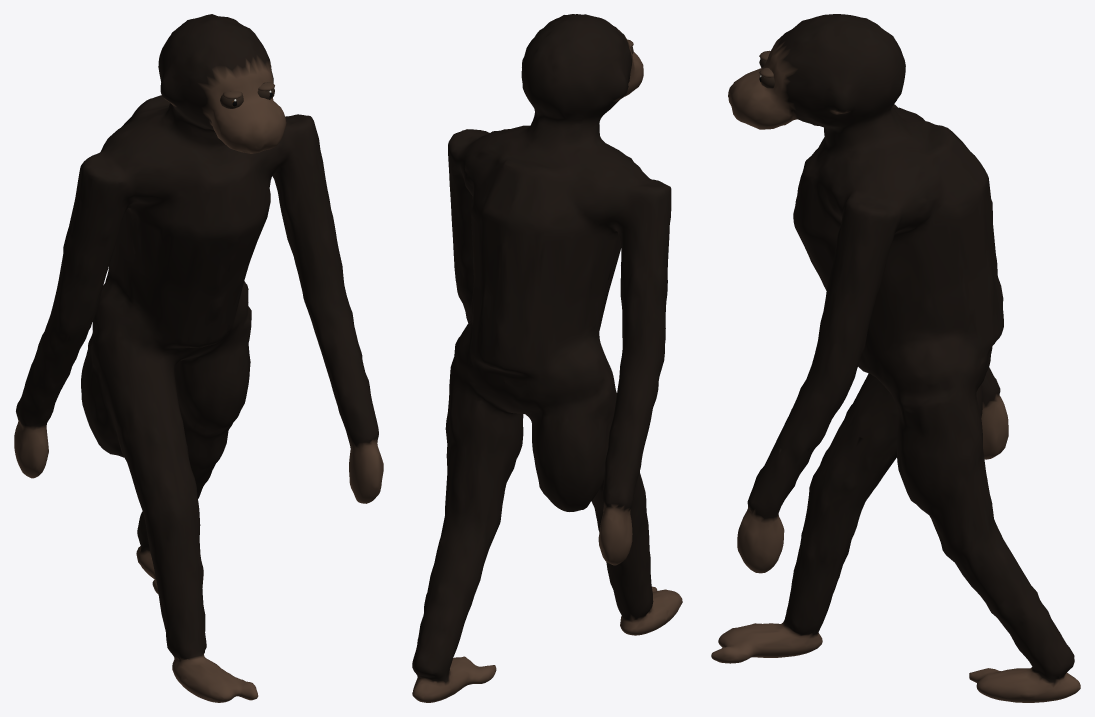
The model's file is ArdipithecusRamidus.fbx.
3 views of the same model, side by side, from view 1: azimuth 30°, elevation 25°; view 2: azimuth 150°, elevation 25°; view 3: azimuth 270°, elevation 25° (orthographic). The views are drawn at different scales.
Visible parts, largest first — view 1: ArdipithecusRamidus; view 2: ArdipithecusRamidus; view 3: ArdipithecusRamidus.
Part boxes in pixels (x1,y1,x2,y2): ArdipithecusRamidus: (14, 14, 383, 702); ArdipithecusRamidus: (412, 14, 682, 702); ArdipithecusRamidus: (711, 14, 1080, 702).
Size of the model in its own units: 0.4525 by 1.08 by 0.55.
